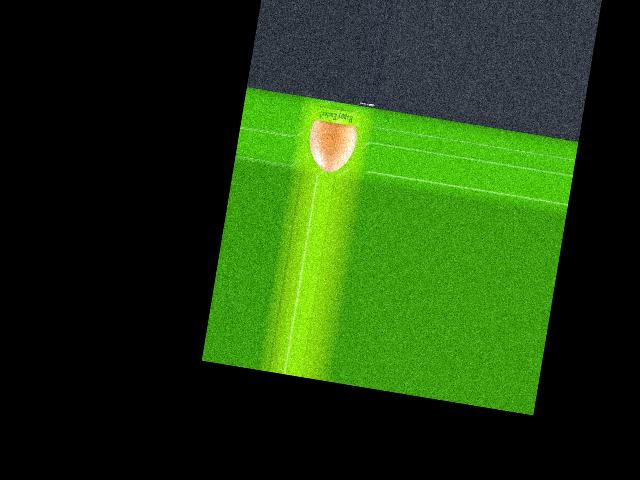egg: (304, 119, 358, 175)
